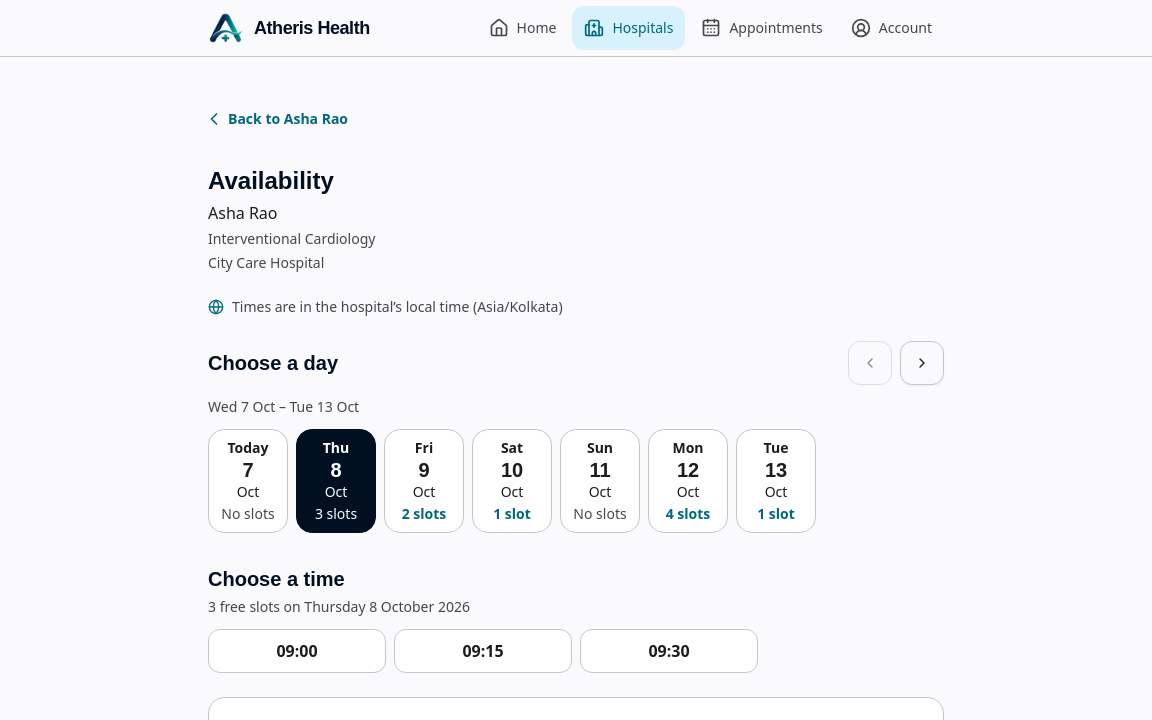
Test: doctor availability — what the server returned, on the hospital’s clock › a day pressed goes into the address and its times are shown; one with nothing says so
Click the button with aria-label "Friday 9 October 2026" at (424, 481), box [384,429,464,533]
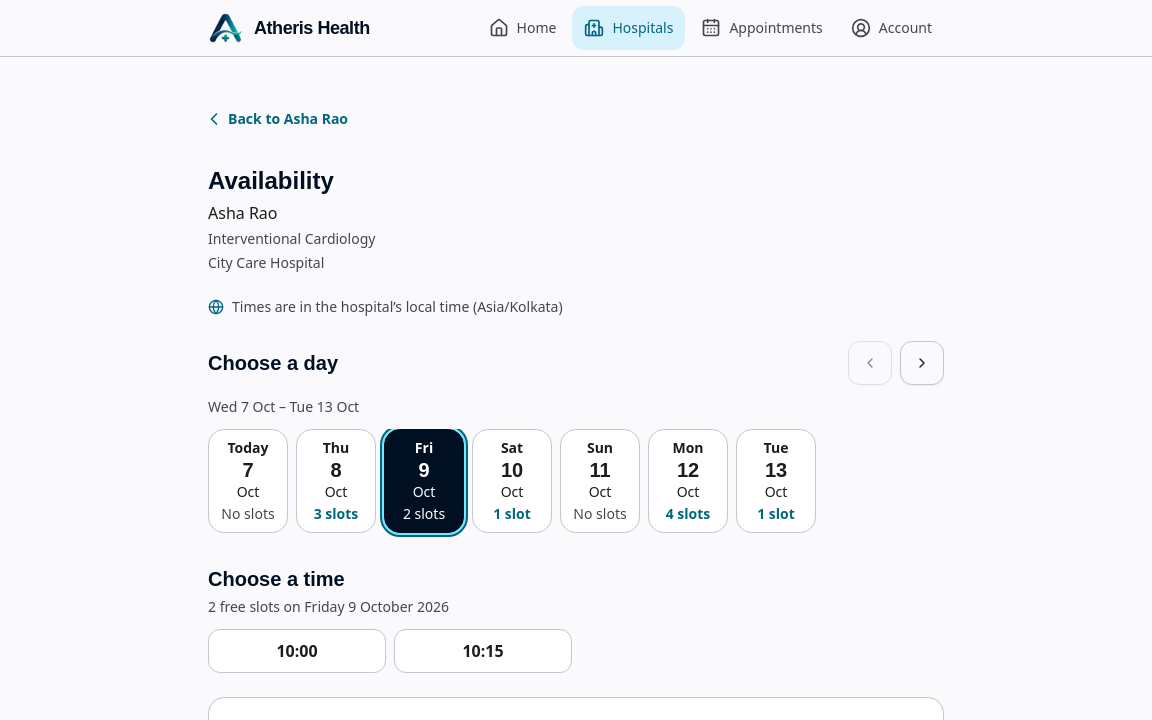
Check: the buttons read "10:00", "10:15", in this order, box [208,629,386,673]; [394,629,572,673]
Check: the message reads "2 free slots on Friday 9 October 2026", box [208,597,449,616]
Click the button with aria-label "Wednesday 7 October 2026" at (248, 481), box [208,429,288,533]
(page scrolled)
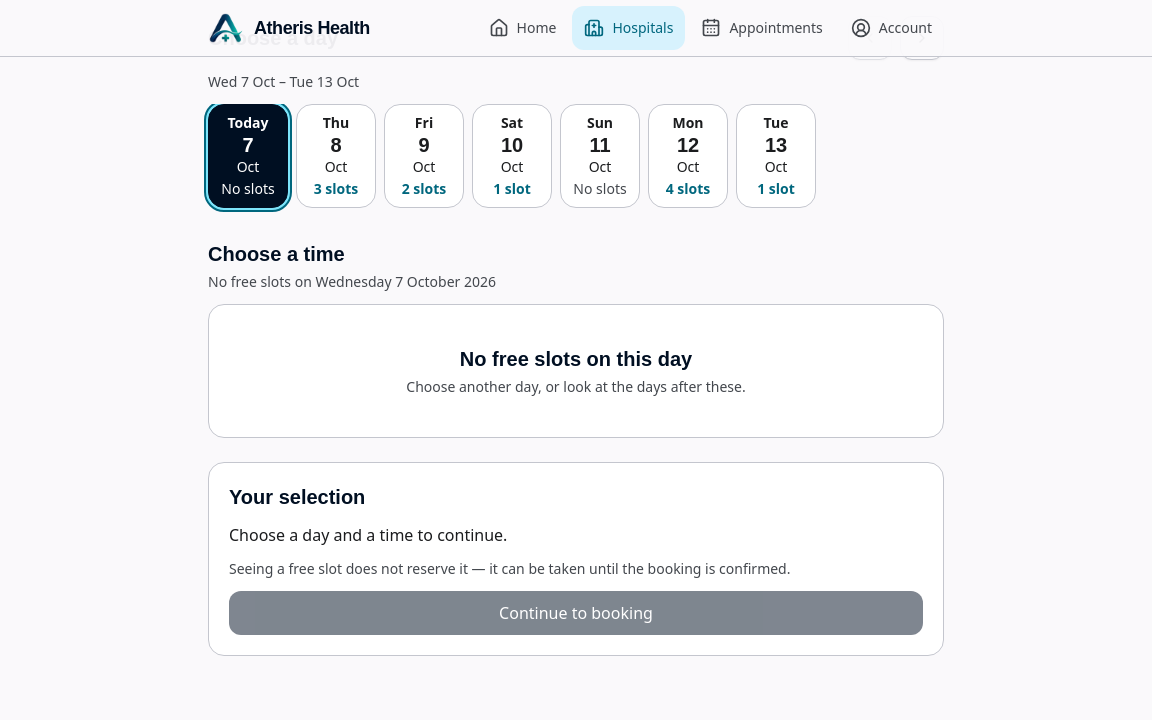
Check: the button "Continue to booking" is disabled, box [229,591,923,635]
Check: the text "No free slots on this day" is shown, box [460,348,692,370]
Check: the message reads "No free slots on Wednesday 7 October 2026", box [208,272,496,291]
